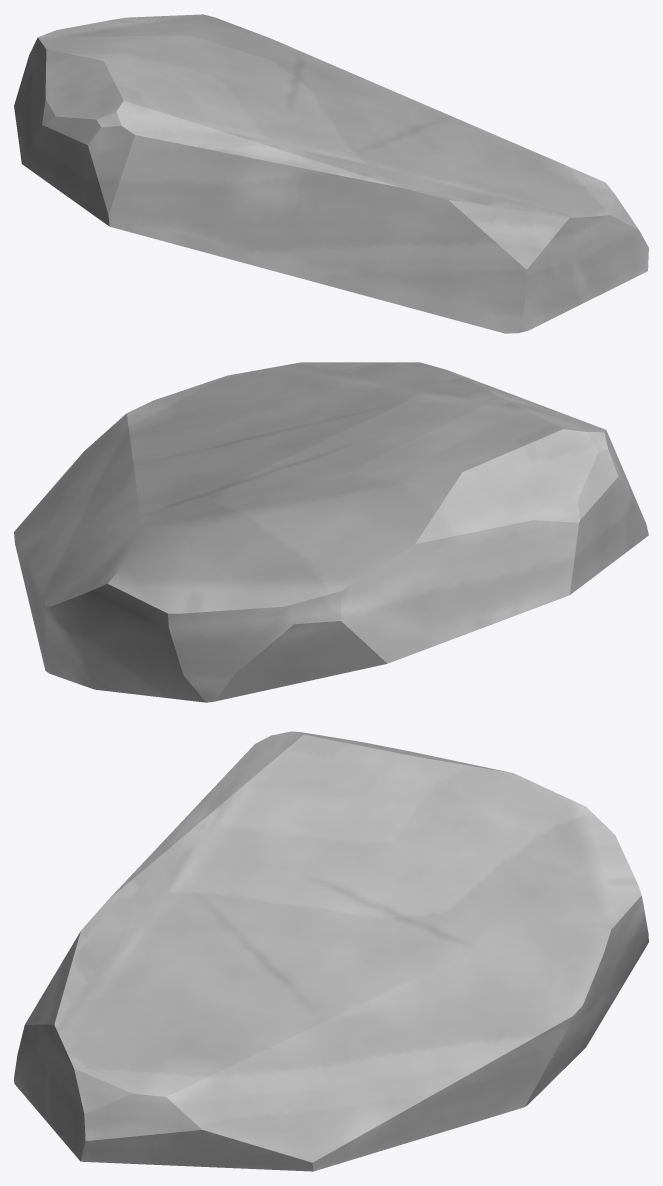
File: sculpted_stone_03.glb
3 renders of one model, top to bottom at view 1: azimuth 30°, elevation 25°; view 2: azimuth 150°, elevation 25°; view 3: azimuth 270°, elevation 25°, orthographic. The views are drawn at different scales.
Parts seen in each view (by area): view 1: sculpted_stone_03; view 2: sculpted_stone_03; view 3: sculpted_stone_03.
Boxes of the visible parts, x1,y1,x2,y2 form: sculpted_stone_03: (14,14,648,333); sculpted_stone_03: (14,362,648,702); sculpted_stone_03: (14,731,648,1171).
Size of the model in its own units: 0.4451 by 0.1691 by 0.4658.
Materials: 1 (1 with a texture image).
